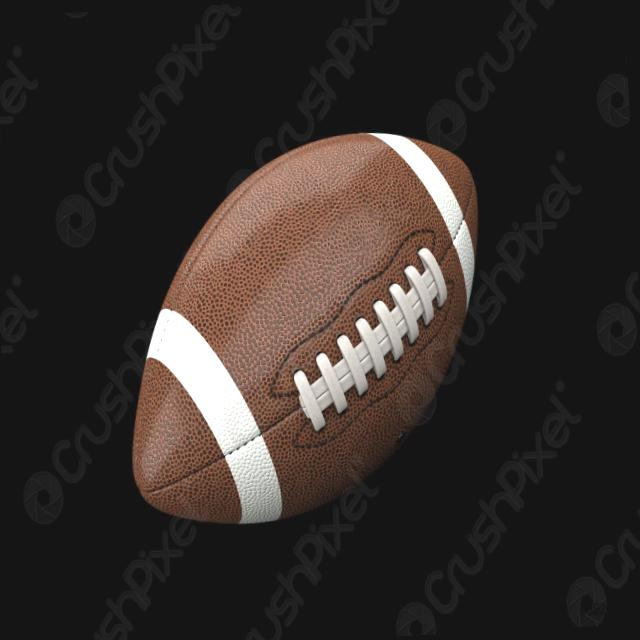ball: (92, 116, 504, 534)
